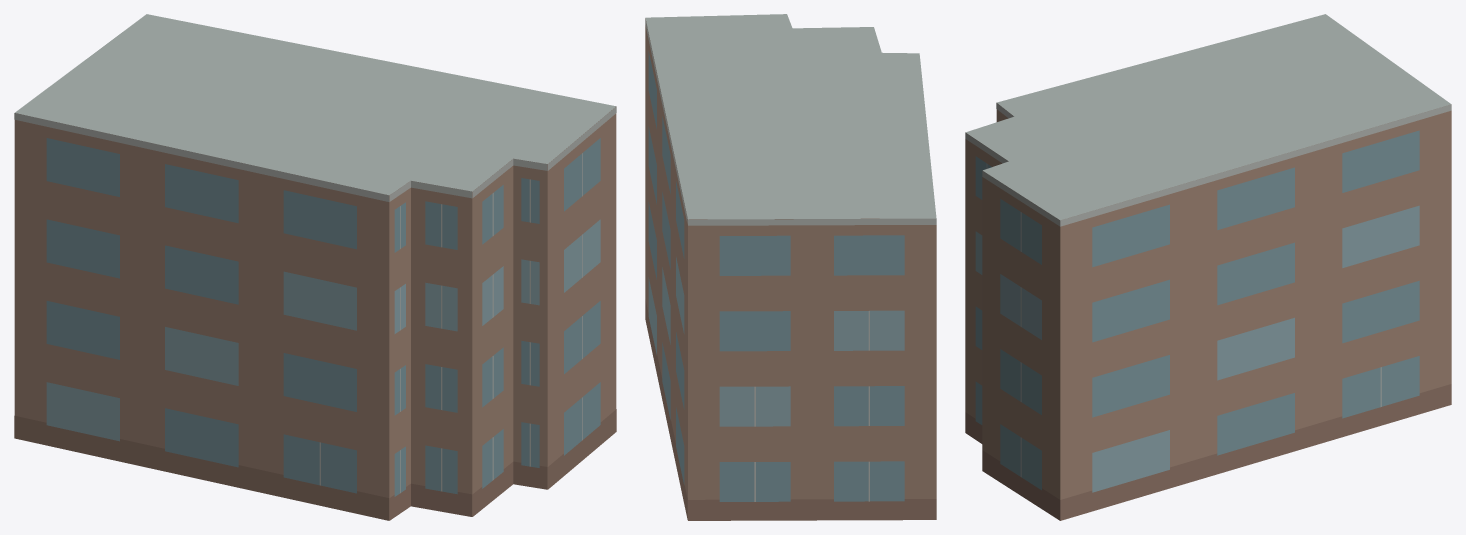
The model's file is survey-upis-32945312.glb.
3 renders of one model, left to right at view 1: azimuth 30°, elevation 25°; view 2: azimuth 150°, elevation 25°; view 3: azimuth 270°, elevation 25°, orthographic. The views are drawn at different scales.
Visible parts, largest first — view 1: survey-upis-32945312.tmp; view 2: survey-upis-32945312.tmp; view 3: survey-upis-32945312.tmp.
Part boxes in pixels (<box>): survey-upis-32945312.tmp: <box>14,14,616,520</box>; survey-upis-32945312.tmp: <box>645,14,936,520</box>; survey-upis-32945312.tmp: <box>965,14,1451,520</box>.
Size of the model in its own units: 17.09 by 11.6 by 17.02.
